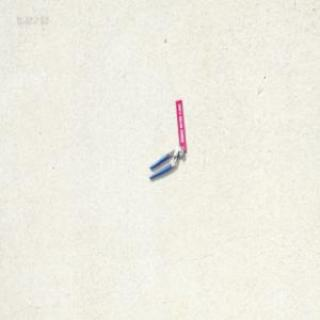LuggageTagtrack_idkeyframe: (174, 98, 187, 150)
Pliertrack_idkeyframe: (147, 144, 183, 180)
